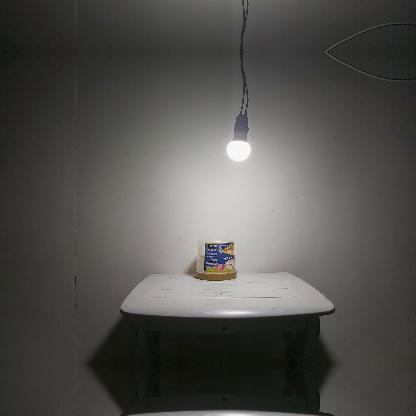Lady-s-Choice: (194, 235, 238, 281)
